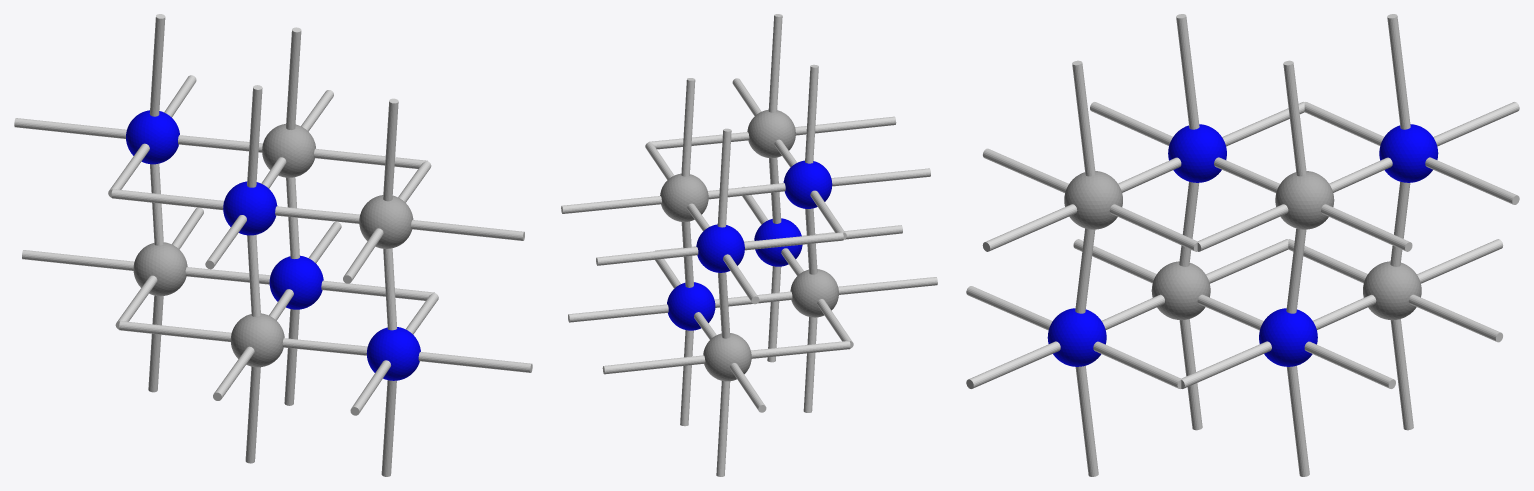
File: structure_mpstyle.glb
3 renders of one model, left to right at view 1: azimuth 30°, elevation 25°; view 2: azimuth 150°, elevation 25°; view 3: azimuth 270°, elevation 25°, orthographic. The views are drawn at different scales.
Parts seen in each view (by area): view 1: world; view 2: world; view 3: world.
Part boxes in pixels (x1,y1,x2,y2): world: [14, 14, 532, 476]; world: [561, 14, 937, 476]; world: [966, 14, 1519, 476].
Size of the model in its own units: 4.6 by 6.18 by 7.51.
